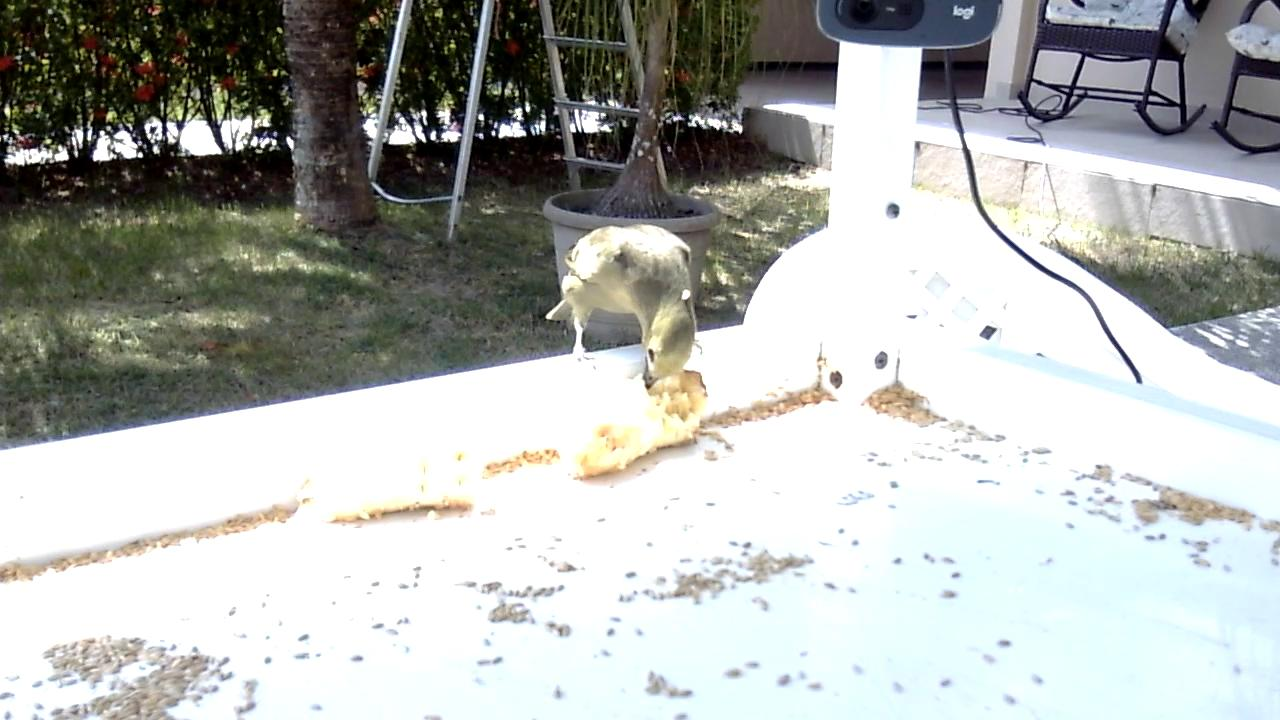sanhaco_do_coqueiro: (547, 224, 707, 393)
